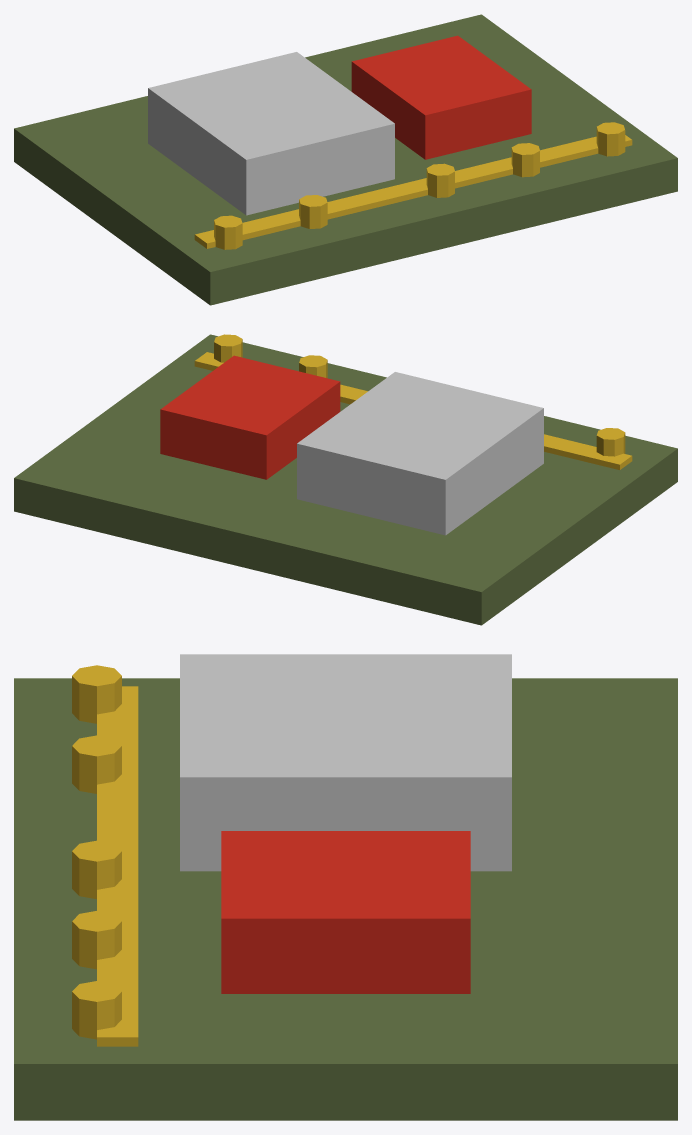
File: circuit_board.obj
3 renders of one model, top to bottom at view 1: azimuth 30°, elevation 25°; view 2: azimuth 150°, elevation 25°; view 3: azimuth 270°, elevation 25°, orthographic. The views are drawn at different scales.
Visible parts, largest first — view 1: circuit_board; view 2: circuit_board; view 3: circuit_board.
Part boxes in pixels (box(x1,y1,x2,y2)): circuit_board: box(14, 14, 677, 305); circuit_board: box(14, 334, 677, 625); circuit_board: box(14, 654, 677, 1120).
Bounding box in the file's own units: 0.44 × 0.08 × 0.32.
